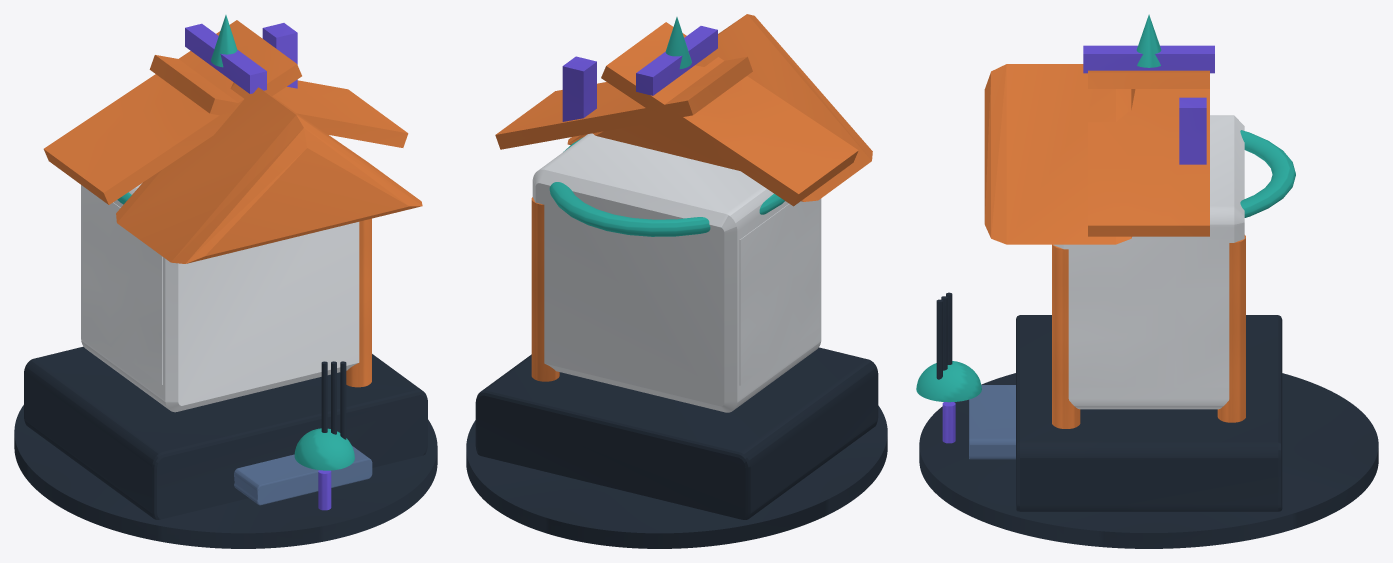
File: 0741_先秦图鉴_陶寺观象台.glb
3 renders of one model, left to right at view 1: azimuth 30°, elevation 25°; view 2: azimuth 150°, elevation 25°; view 3: azimuth 270°, elevation 25°, orthographic.
Visible parts, largest first — view 1: card_0741; view 2: card_0741; view 3: card_0741.
Part boxes in pixels (x1,y1,x2,y2): card_0741: (14,15,437,548); card_0741: (466,14,887,548); card_0741: (916,14,1378,548).
Size of the model in its own units: 0.8472 by 1 by 0.9379.
